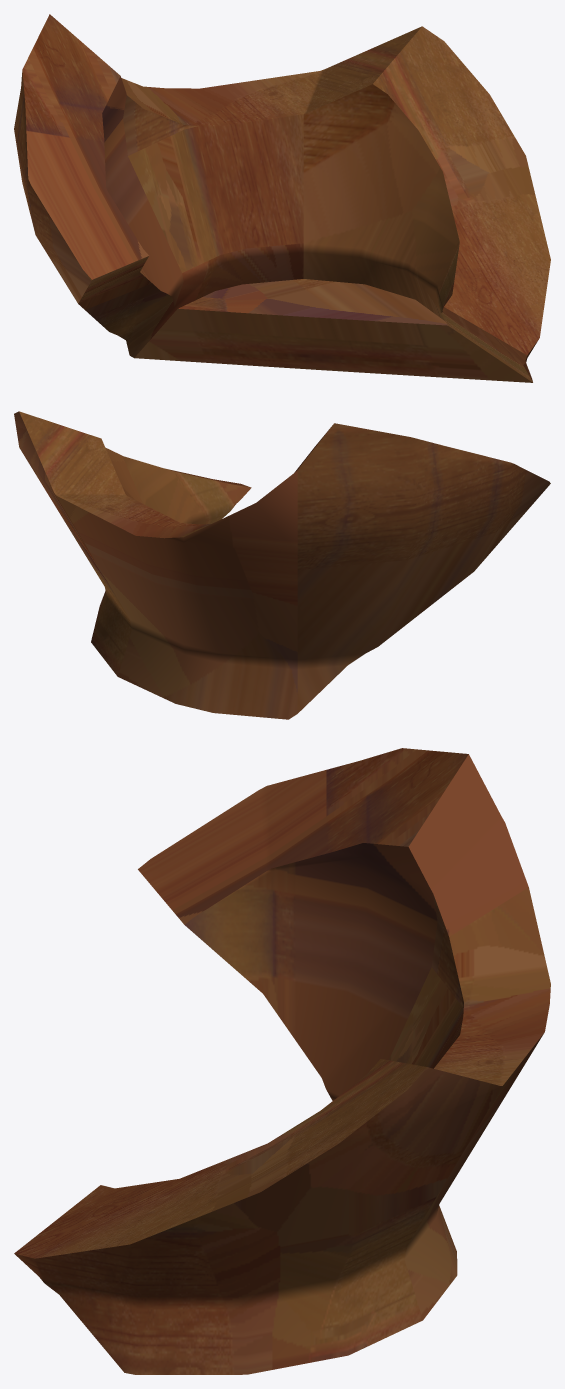
File: brokebottle2-11.fbx
The picture shows the model from 3 angles, top to bottom: view 1: azimuth 30°, elevation 25°; view 2: azimuth 150°, elevation 25°; view 3: azimuth 270°, elevation 25°; orthographic projection. The views are drawn at different scales.
Visible parts, largest first — view 1: polySurface13; view 2: polySurface13; view 3: polySurface13.
Part boxes in pixels (box(x1,y1,x2,y2)): polySurface13: box(14, 14, 550, 382); polySurface13: box(14, 411, 550, 719); polySurface13: box(14, 748, 550, 1374).
Size of the model in its own units: 46.08 by 30.95 by 35.89.
